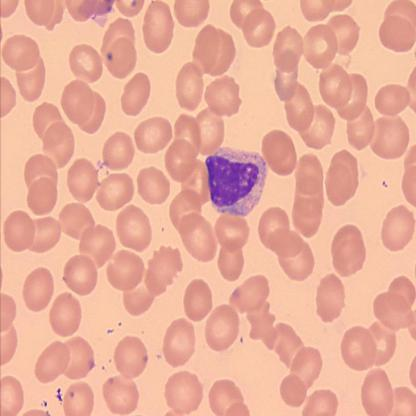Metamyelocyte: (203, 144, 269, 218)
